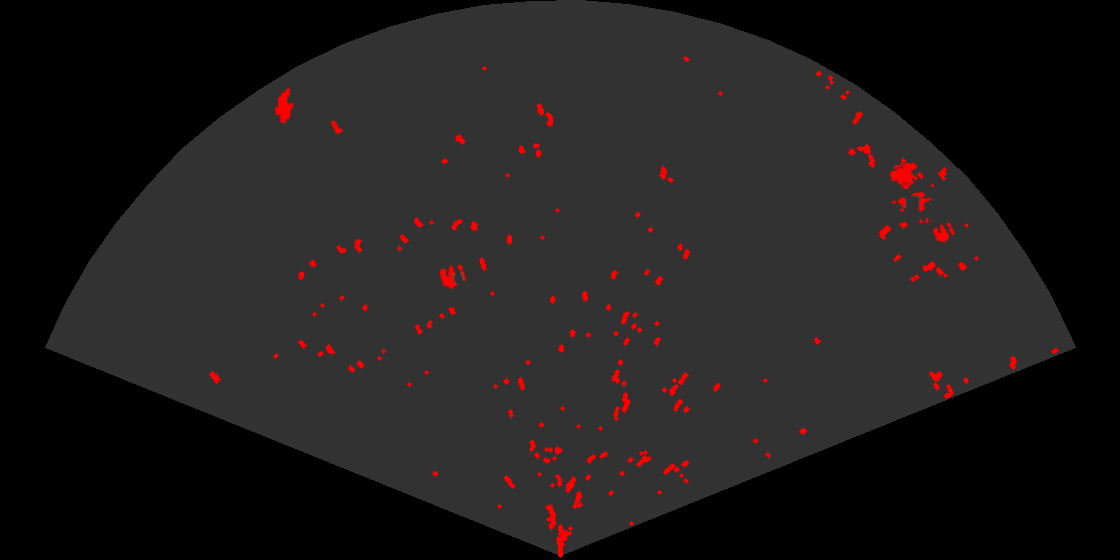AUV: (273, 86, 295, 126)
ball: (438, 262, 468, 291), (931, 220, 957, 245)
cage: (888, 160, 934, 223)
